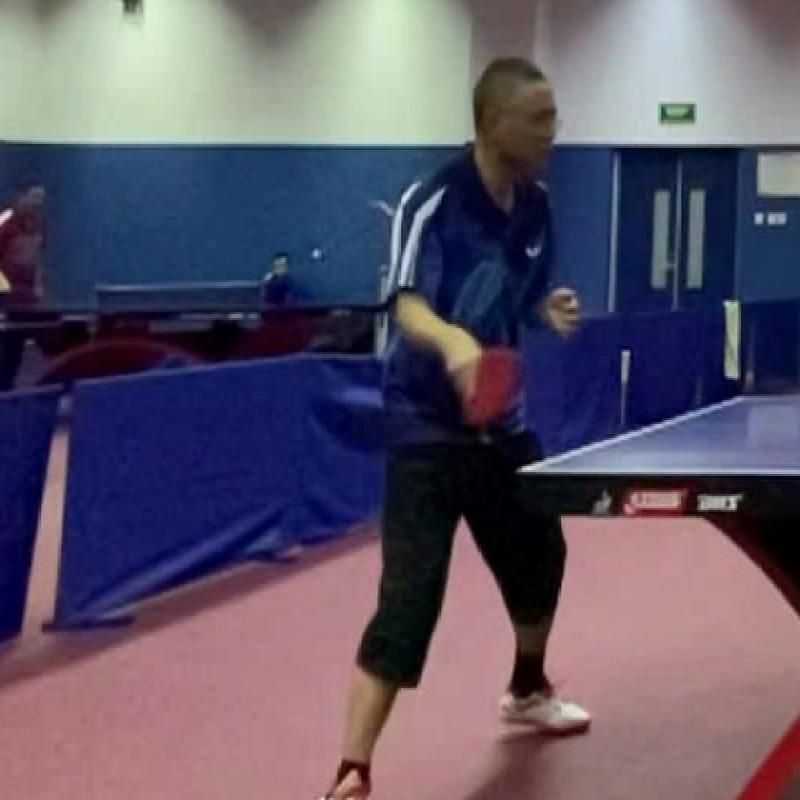bats: (437, 334, 534, 434)
